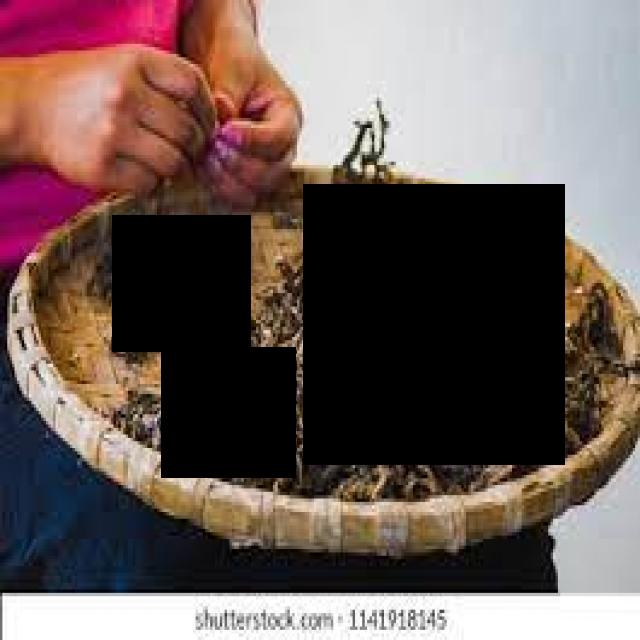Gundruk: (304, 184, 566, 465), (112, 215, 252, 352), (161, 348, 296, 479)
